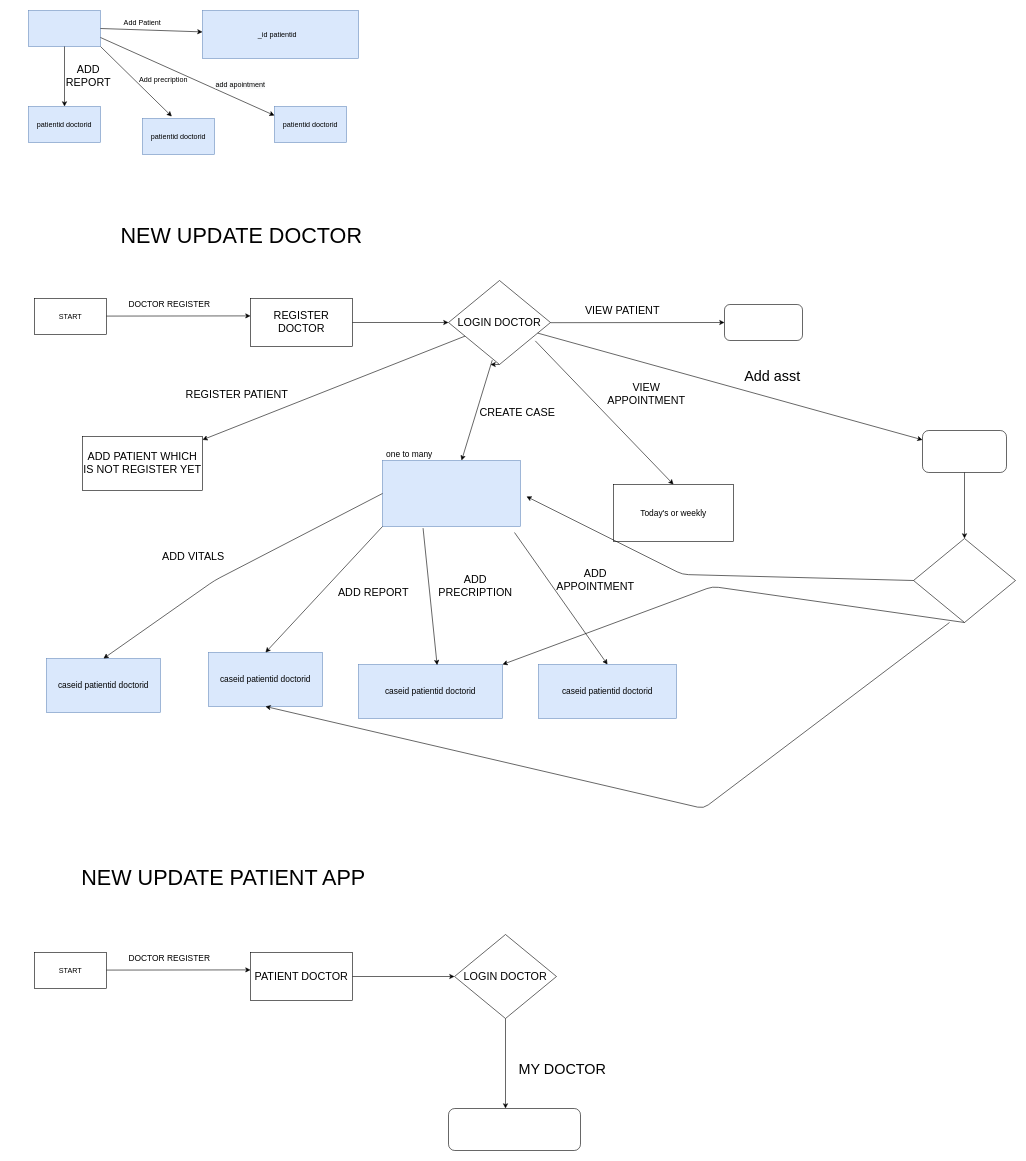
Some shapes in this 1026 by 1161 pixel diagram are drawn without their labels. The shapes that lost their labels are listed below. From the top down, each one's centre as x and y in pixels, then its label:
At (x=64, y=28): "Doctor".
At (x=763, y=322): "patient data".
At (x=964, y=451): "doctorid & ownid".
At (x=451, y=493): "PATIENTID DOCID".
At (x=964, y=580): "LOGIN ASST".
At (x=514, y=1129): "doctor list".
